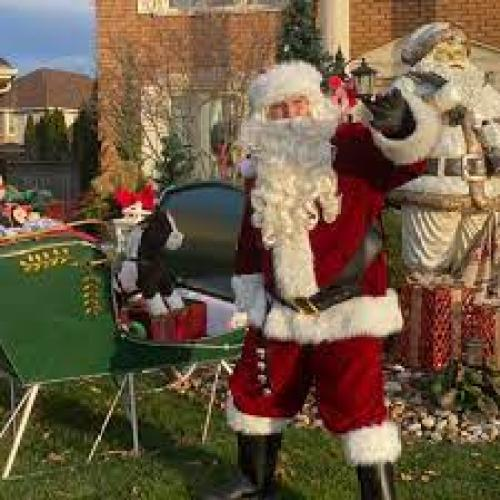Santa: (214, 62, 440, 500)
